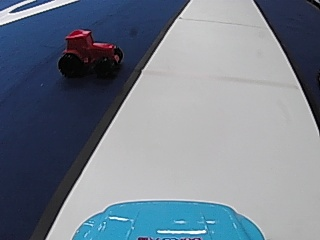tractor: (57, 27, 123, 78)
